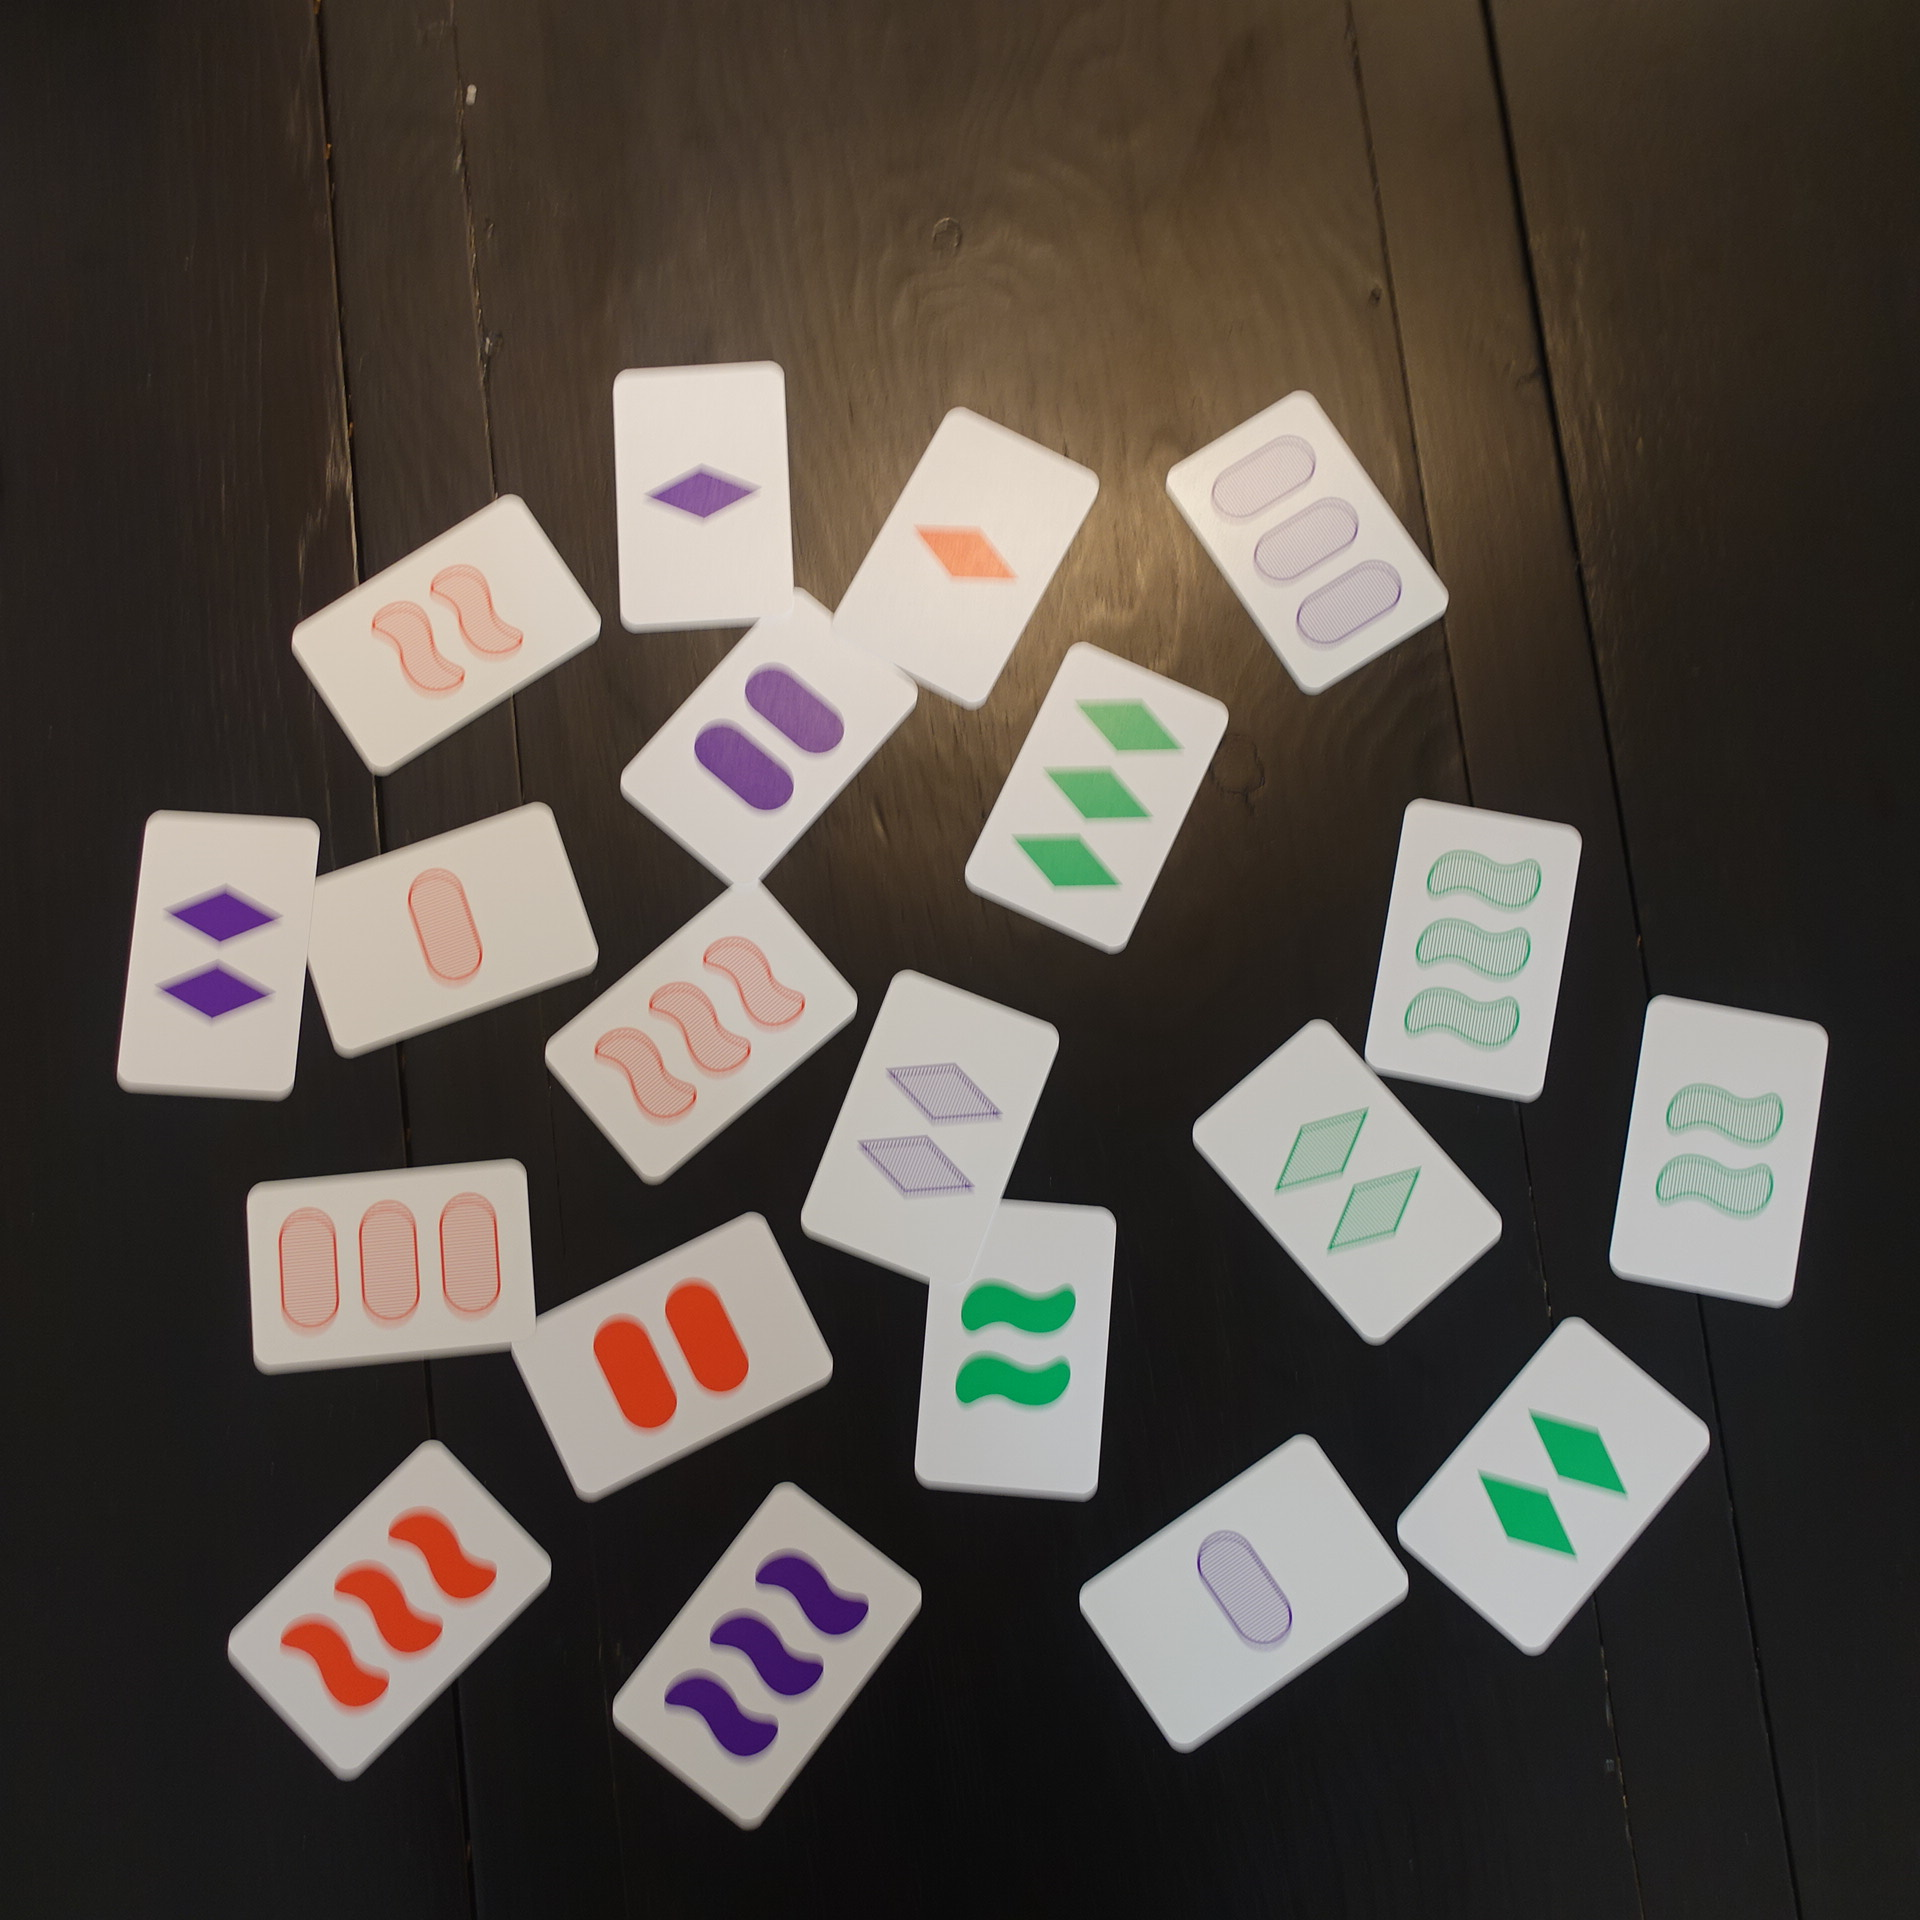c-1-f-d-r: (807, 397, 1111, 714), (582, 345, 812, 645)
c-1-h-o-r: (1060, 1424, 1422, 1756), (280, 795, 605, 1060)
c-2-f-d-r: (1393, 1292, 1727, 1667), (77, 796, 327, 1111)
c-2-f-o-r: (492, 1192, 849, 1503), (614, 577, 927, 900)
c-2-f-s-r: (905, 1183, 1145, 1519)
c-2-h-d-r: (1185, 1013, 1514, 1354), (795, 955, 1071, 1289)
c-2-h-s-r: (273, 482, 610, 782), (1577, 985, 1846, 1322)
c-3-f-d-r: (953, 622, 1248, 969)
c-3-f-s-r: (202, 1436, 563, 1788), (605, 1475, 941, 1830)
c-3-h-o-r: (1159, 371, 1470, 709), (223, 1145, 545, 1382)
c-3-h-s-r: (533, 870, 886, 1189), (1340, 774, 1591, 1111)
